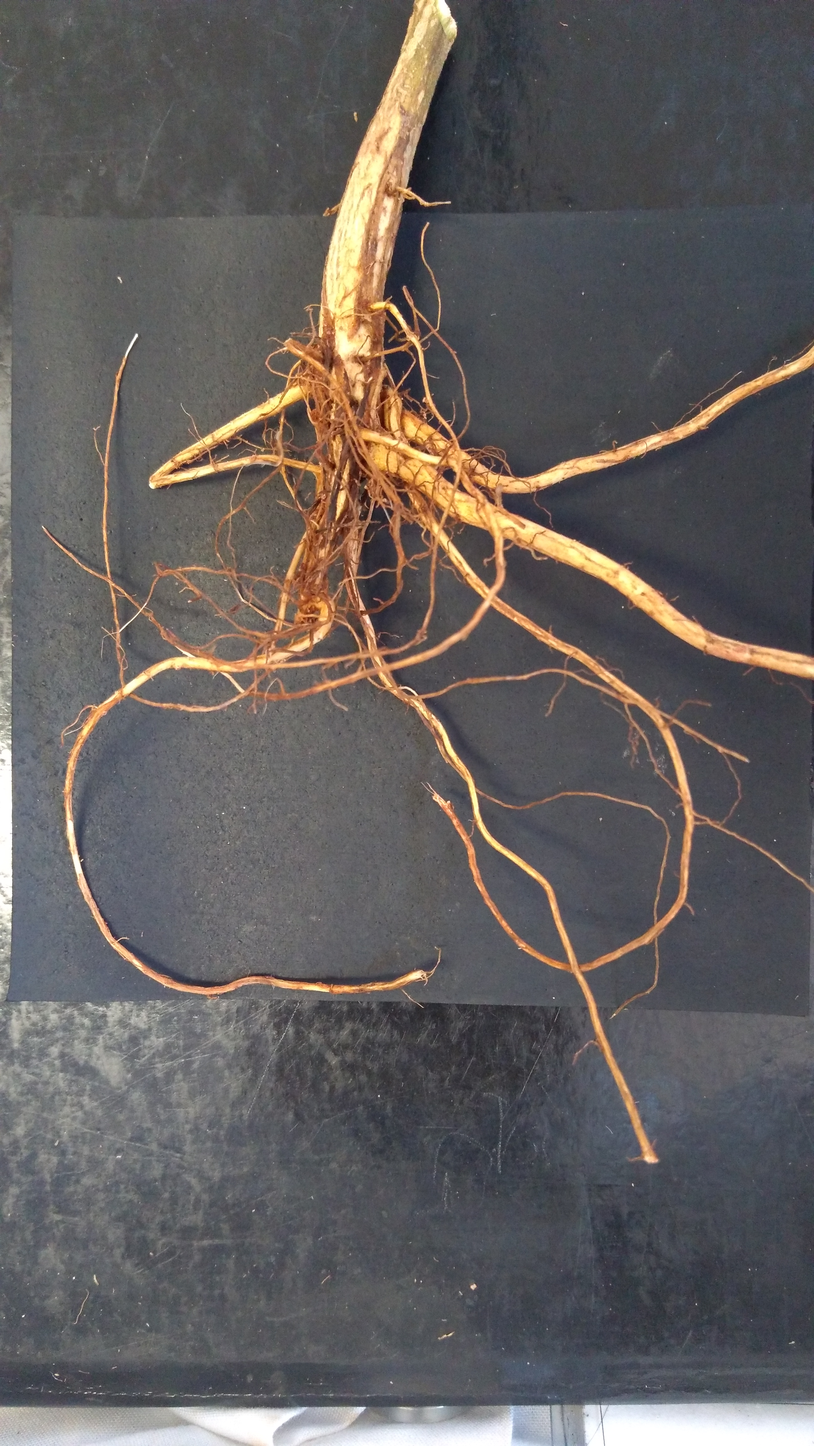nodule: (369, 441, 404, 474), (327, 430, 343, 465), (354, 459, 371, 479), (364, 477, 383, 494), (312, 361, 328, 381), (317, 598, 330, 622), (322, 318, 336, 340), (347, 498, 361, 519), (322, 520, 335, 541), (307, 570, 323, 585), (306, 374, 316, 396), (368, 415, 380, 431), (314, 546, 327, 560), (311, 530, 322, 546), (415, 629, 428, 642), (310, 408, 321, 423), (424, 438, 435, 452), (295, 372, 307, 384), (406, 331, 418, 341), (311, 608, 321, 619), (369, 408, 377, 420), (363, 314, 372, 323), (322, 207, 330, 217), (320, 493, 326, 500), (422, 396, 427, 403), (419, 200, 424, 205), (383, 498, 388, 503)
